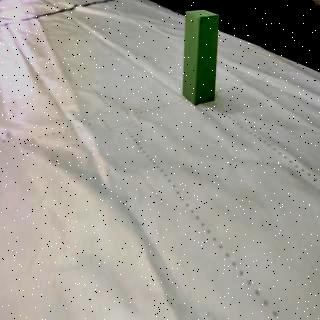greenbox: (184, 8, 218, 106)
